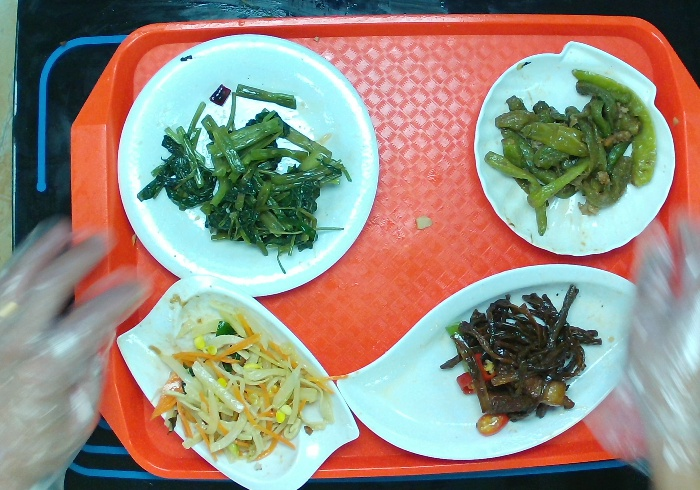RJxy-Bei_Ke_Wan: (472, 38, 678, 259)
RJxy-Jian_Jiao_Fang_Die: (113, 271, 360, 490)
RJxy-Jian_Jiao_Pan: (335, 262, 642, 462)
RJxy-Yuan_Pan: (115, 31, 381, 298)
